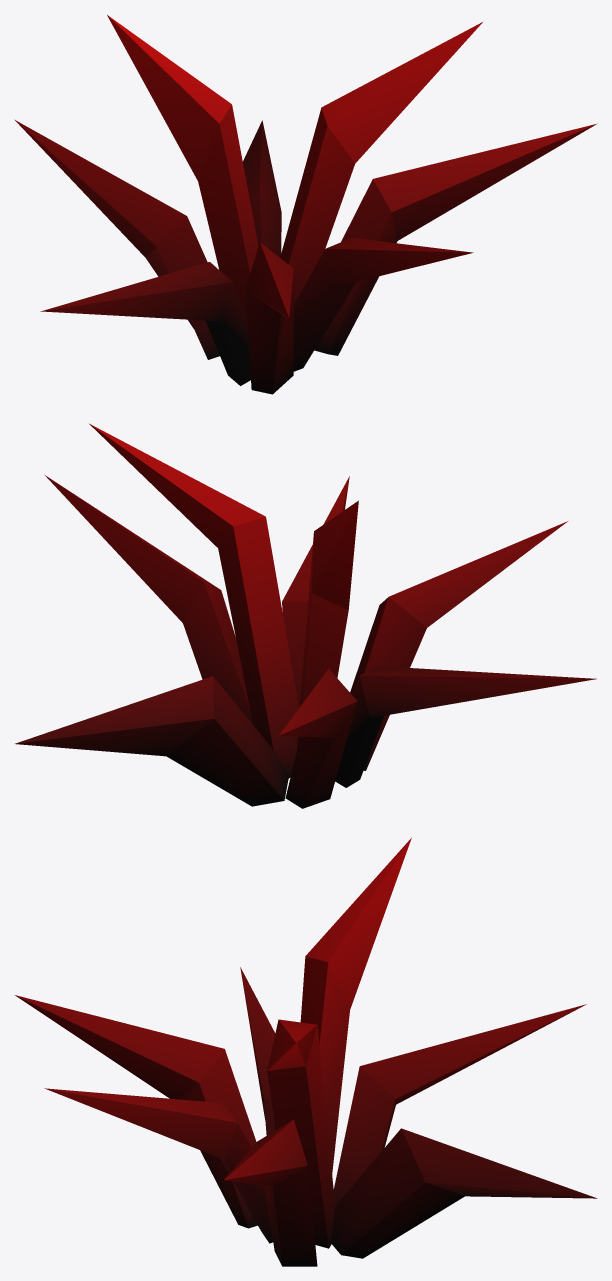
File: entity344230.glb
The picture shows the model from 3 angles, top to bottom: view 1: azimuth 30°, elevation 25°; view 2: azimuth 150°, elevation 25°; view 3: azimuth 270°, elevation 25°; orthographic projection. The views are drawn at different scales.
Visible parts, largest first — view 1: node_SM_Env_Grass_01 (1); view 2: node_SM_Env_Grass_01 (1); view 3: node_SM_Env_Grass_01 (1).
Boxes of the visible parts, x1,y1,x2,y2 form: node_SM_Env_Grass_01 (1): [14, 15, 597, 394]; node_SM_Env_Grass_01 (1): [15, 423, 596, 808]; node_SM_Env_Grass_01 (1): [15, 837, 597, 1266].
Bounding box in the file's own units: 1.93 × 1.17 × 1.73.
